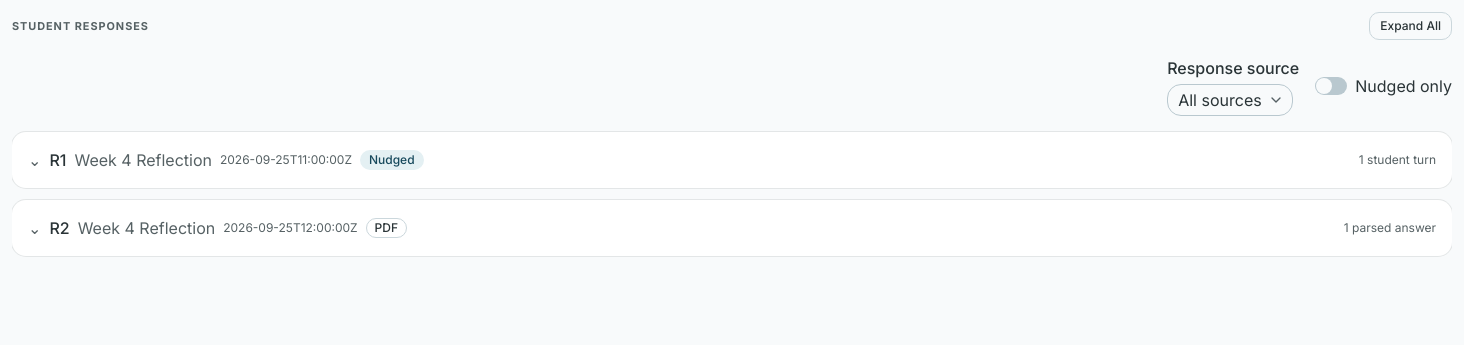
Test: filters response cards by source and nudged state and drills into student turns
Step 1. Press Tab
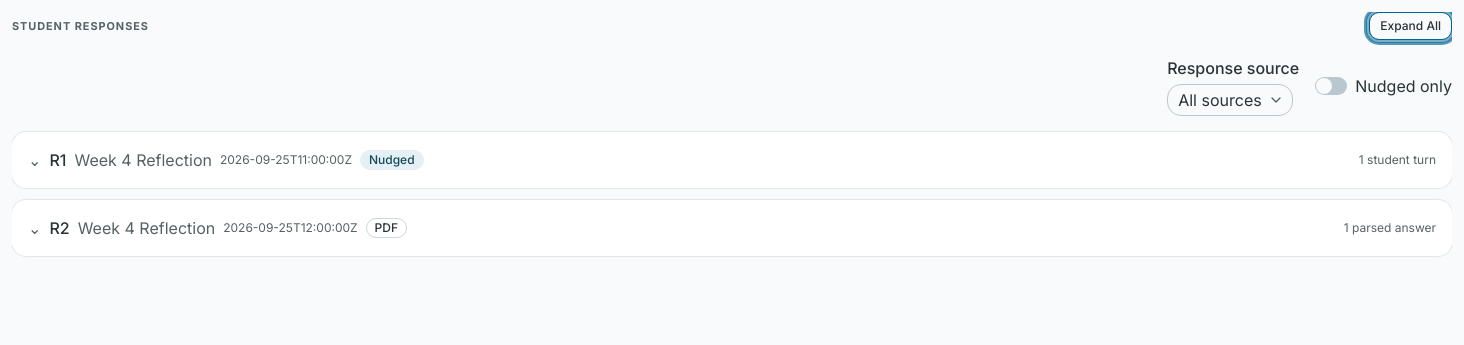
Step 2. Press Tab
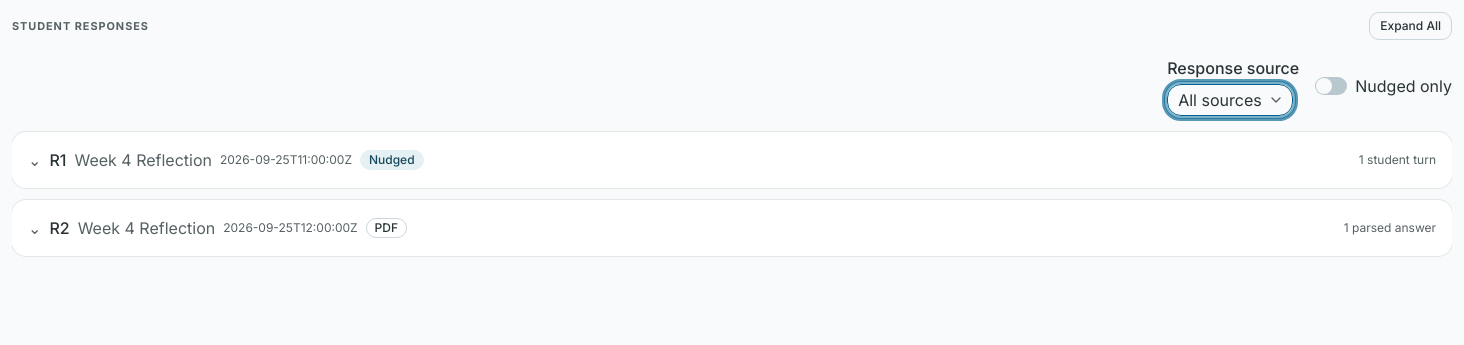
Step 3. Press Enter End Enter
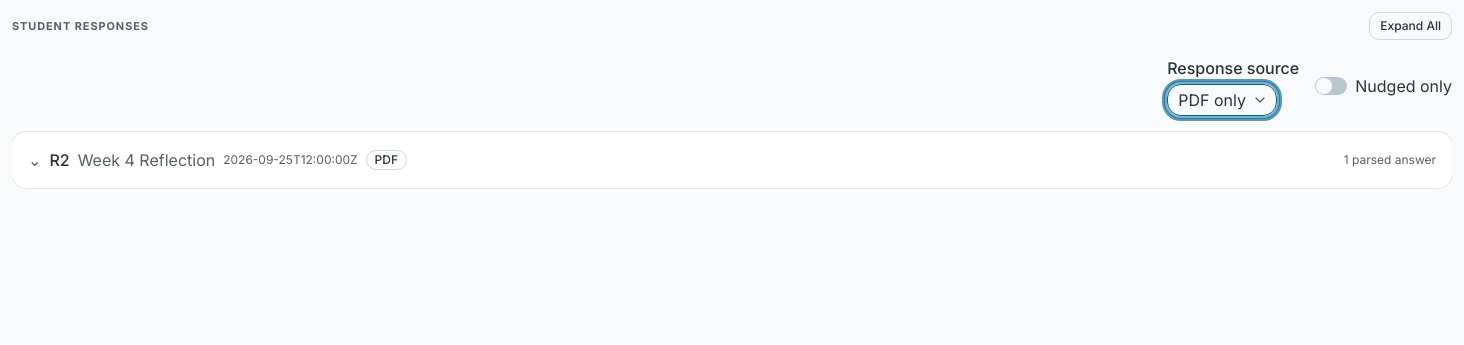
Expected: the text "R2" is shown, [49, 148, 70, 172]
Expected: the heading "R1" is gone
Step 4. Press Enter Home Enter
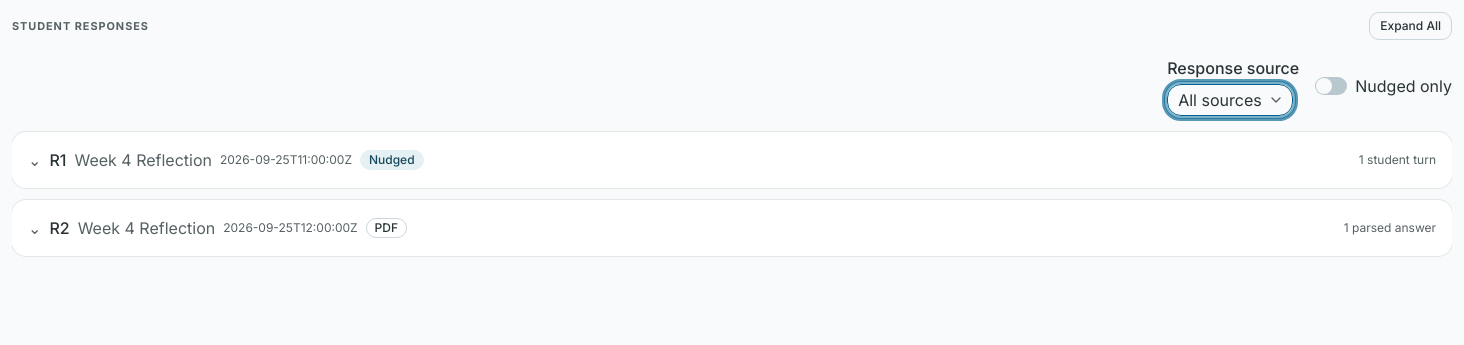
Step 5. Click the switch named "Nudged only" → {"x": 1331, "y": 86}, box [1315, 77, 1347, 95]
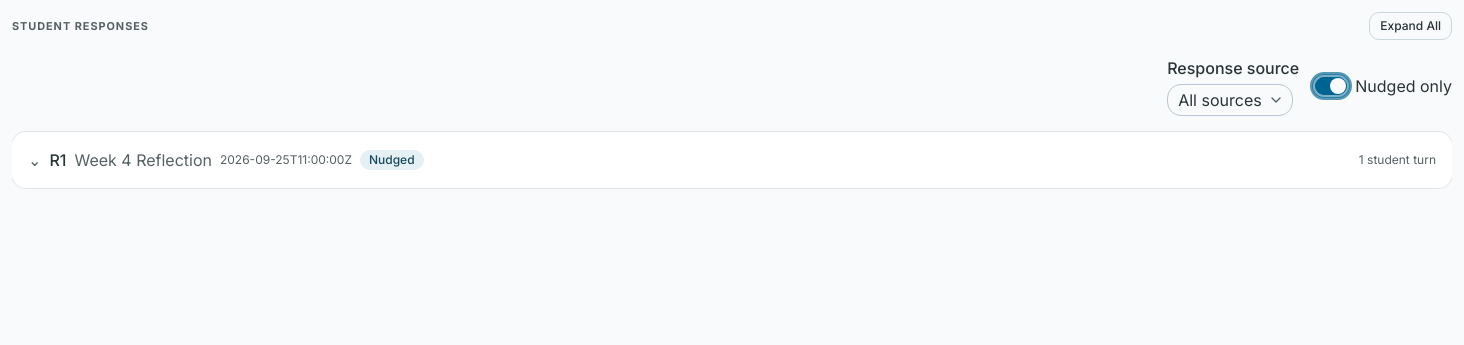
Step 6. Click the text "R1" → {"x": 58, "y": 160}, box [49, 148, 66, 172]
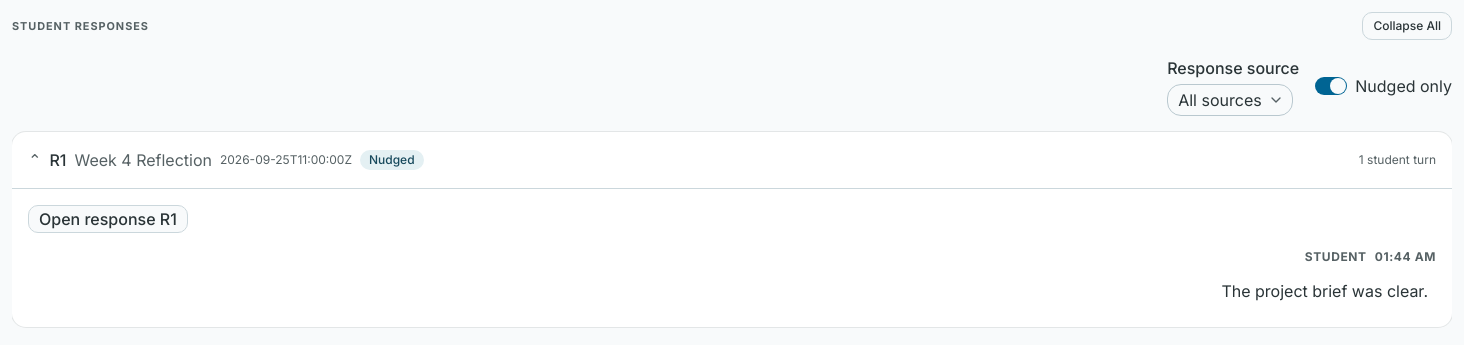
Expected: the list named "Conversation" is shown, [1221, 249, 1436, 301]
Expected: the text "The project brief was clear." is shown, [1221, 281, 1428, 301]
